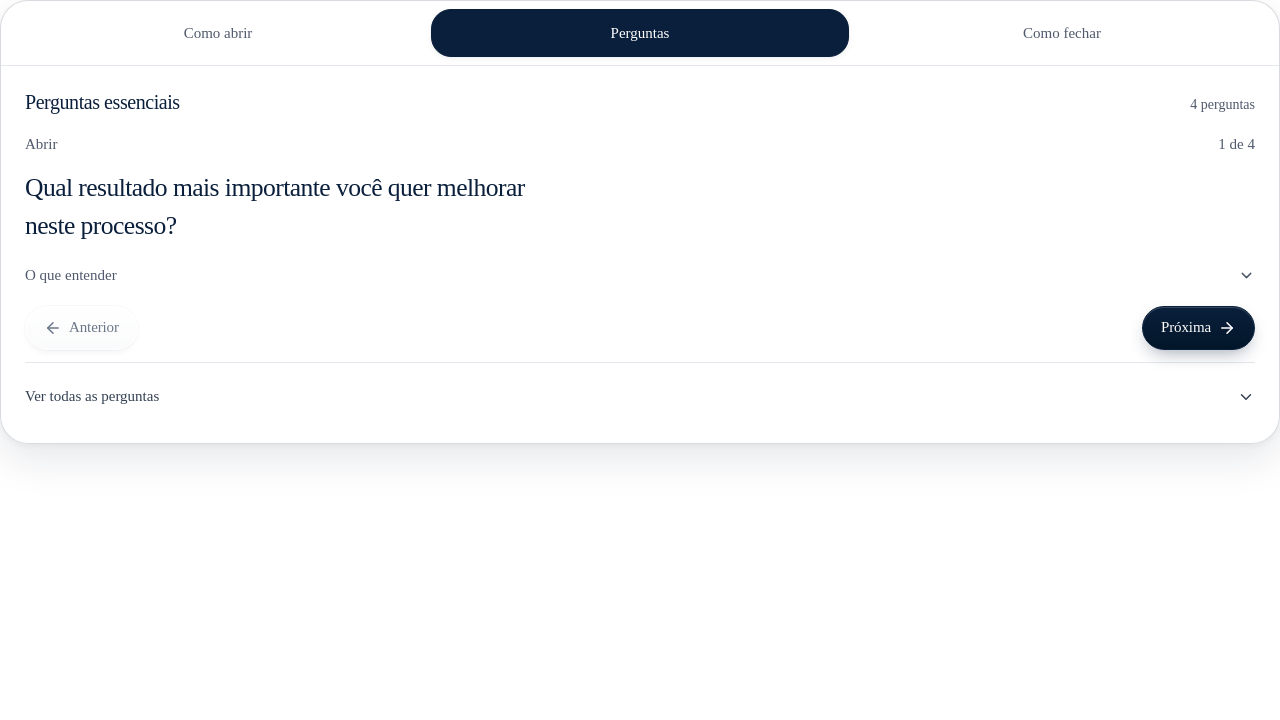
Test: RoteiroPreparacao › mostra uma pergunta, conserva o texto e revela intenção sob demanda
Expected: the heading "Qual resultado mais importante você quer melhorar neste processo?" is shown, left=25, top=173, right=525, bottom=240
Expected: the heading "Como esse processo acontece hoje, do início ao fim?" is not shown
Click the heading "O que entender". click: (71, 275)
box: left=25, top=267, right=1255, bottom=284
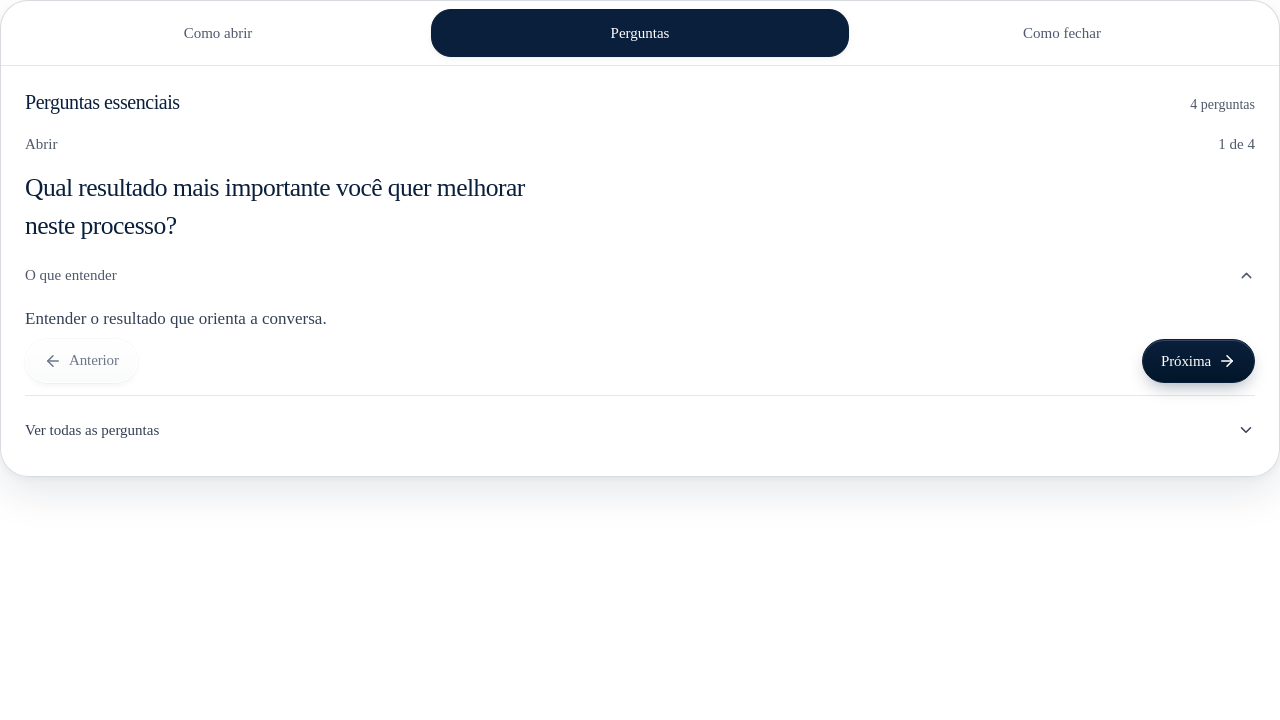
Expected: the button with aria-label "Pergunta anterior" is disabled, left=25, top=339, right=138, bottom=383
Now the text "Entender o resultado que orienta a conversa." is shown, box left=25, top=309, right=327, bottom=328
Click the button with aria-label "Próxima pergunta". click: (1198, 361)
box: left=1142, top=339, right=1255, bottom=383
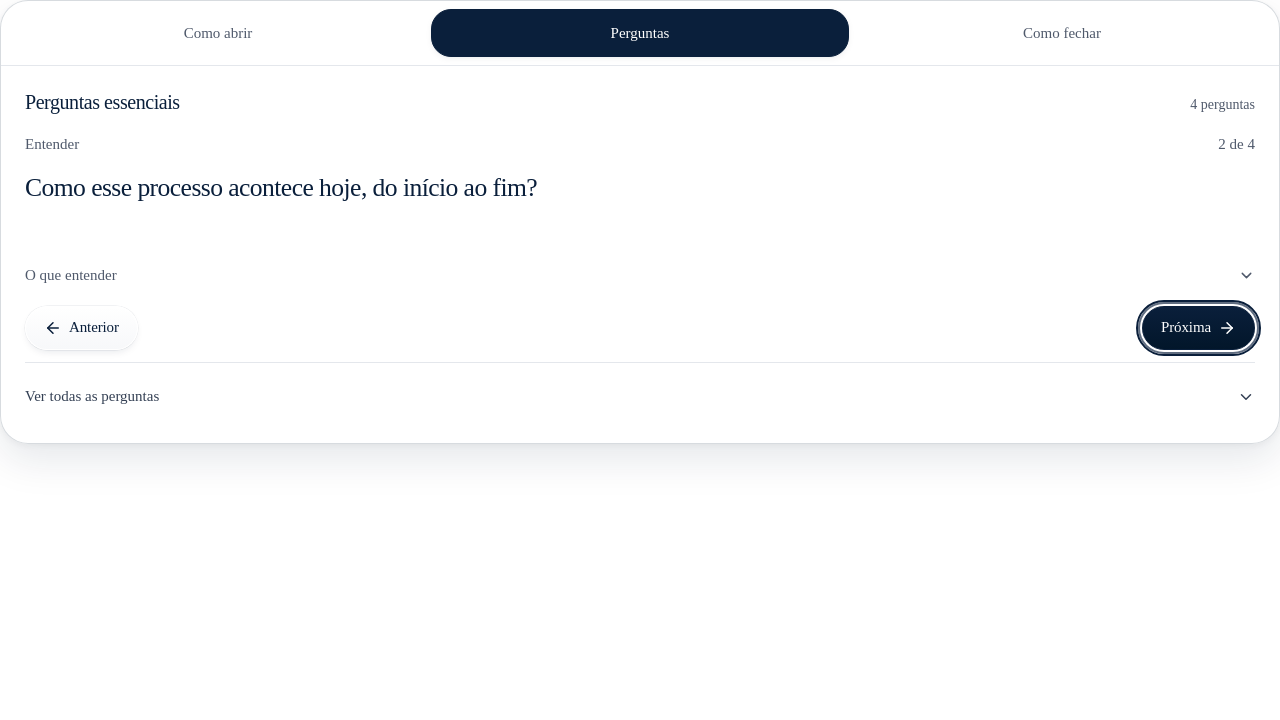
Now the heading "Como esse processo acontece hoje, do início ao fim?" is shown, box left=25, top=173, right=537, bottom=202
Click the button with aria-label "Pergunta anterior". click: (81, 328)
box: left=25, top=306, right=138, bottom=350
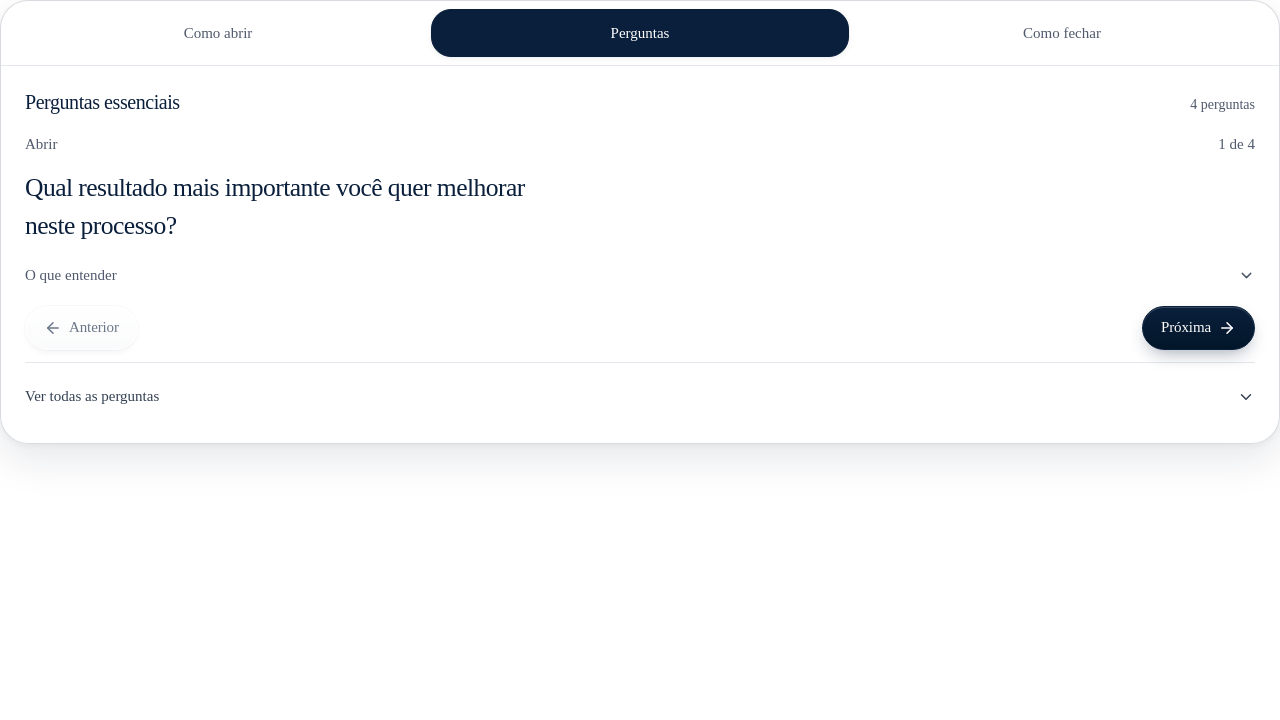
Now the text "1 de 4" is shown, box left=1218, top=132, right=1255, bottom=157
